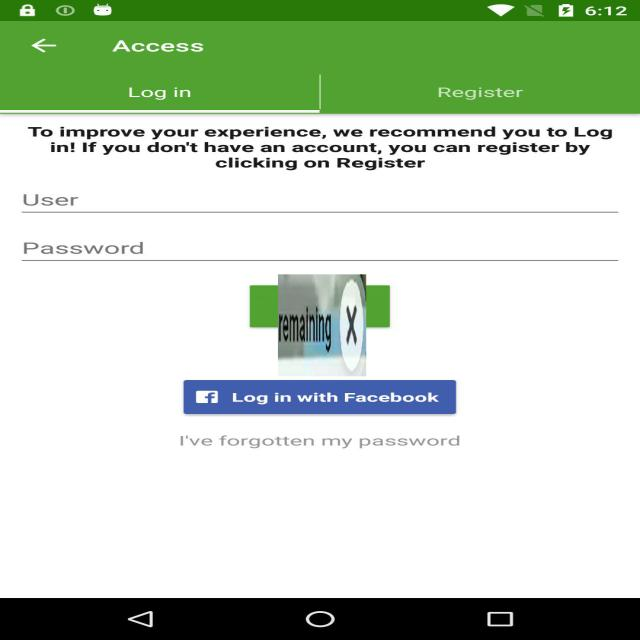misdirection: (278, 274, 366, 376)
